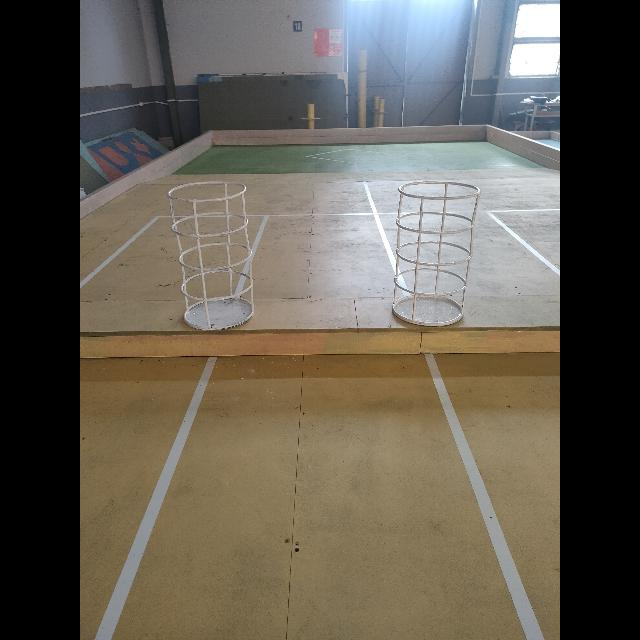S: (388, 178, 483, 328), (167, 179, 256, 334)
